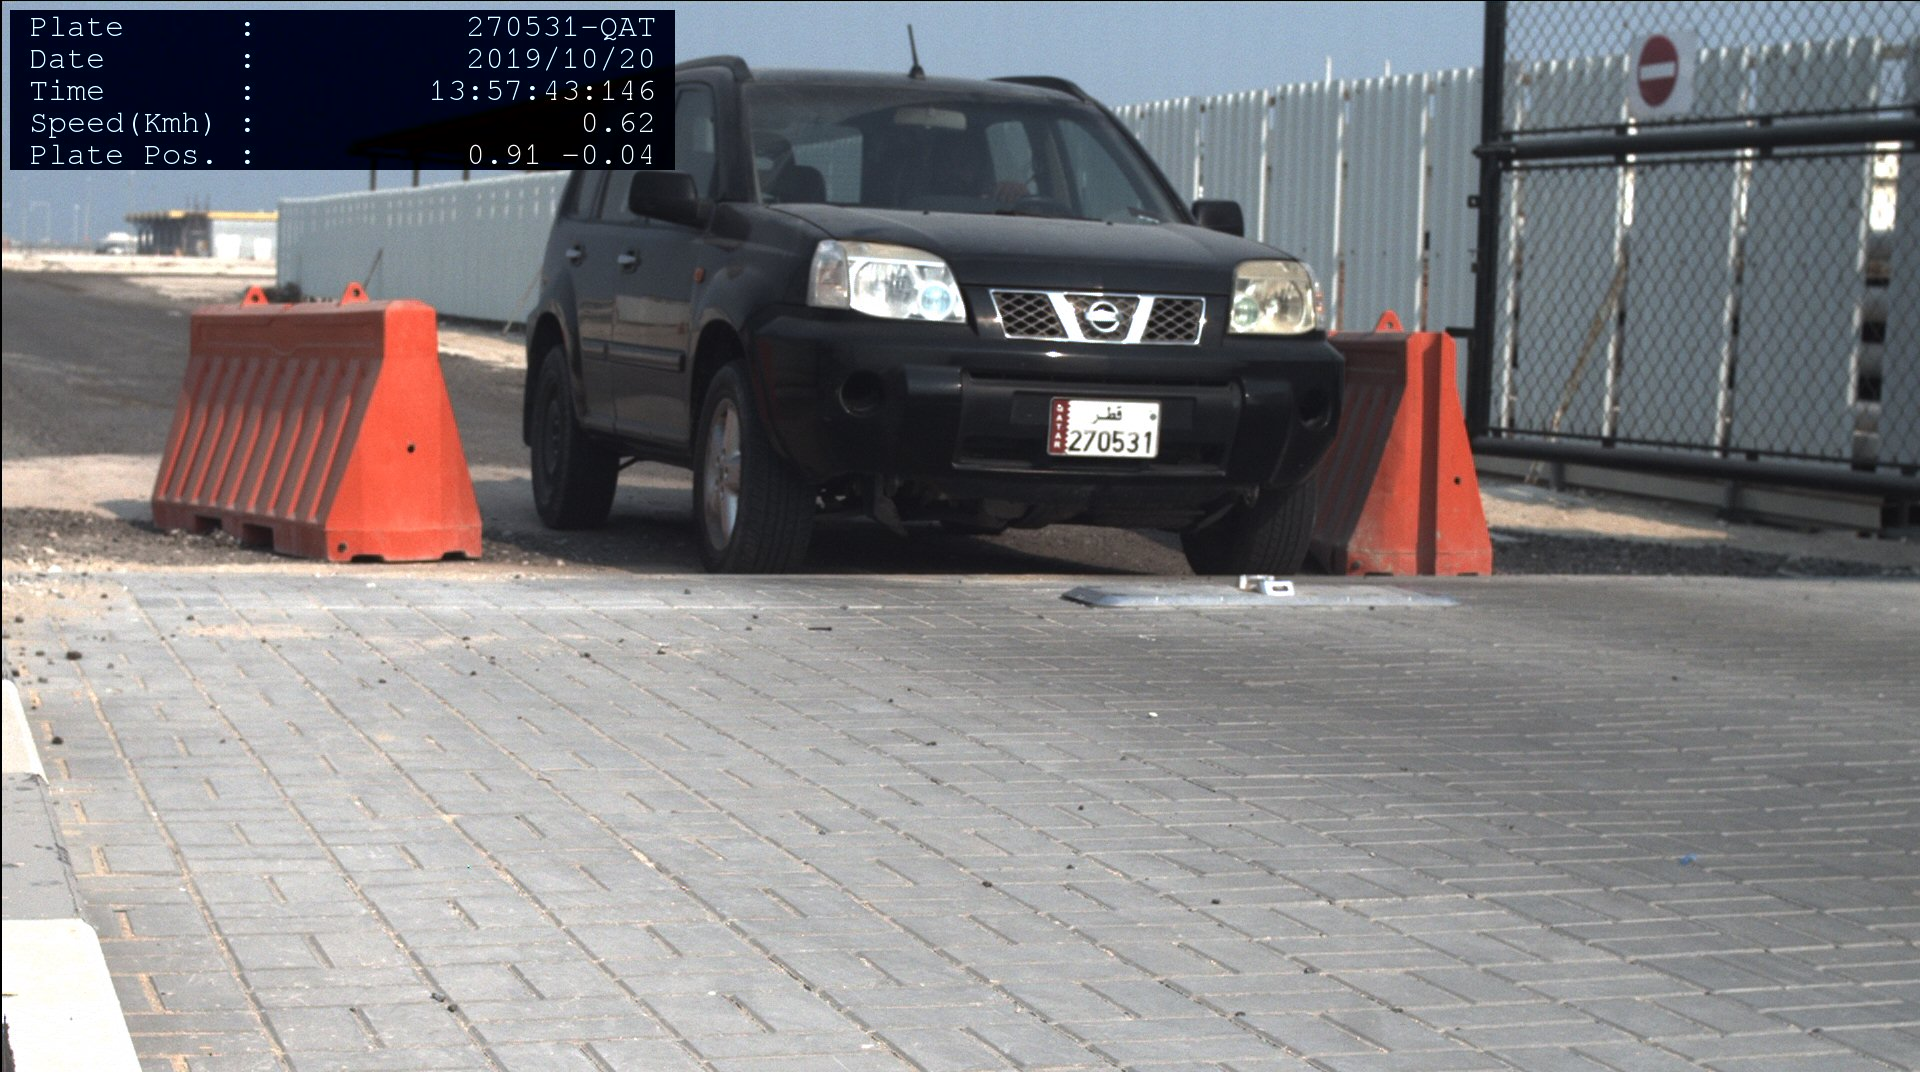License Plate: (1054, 395, 1159, 458)
